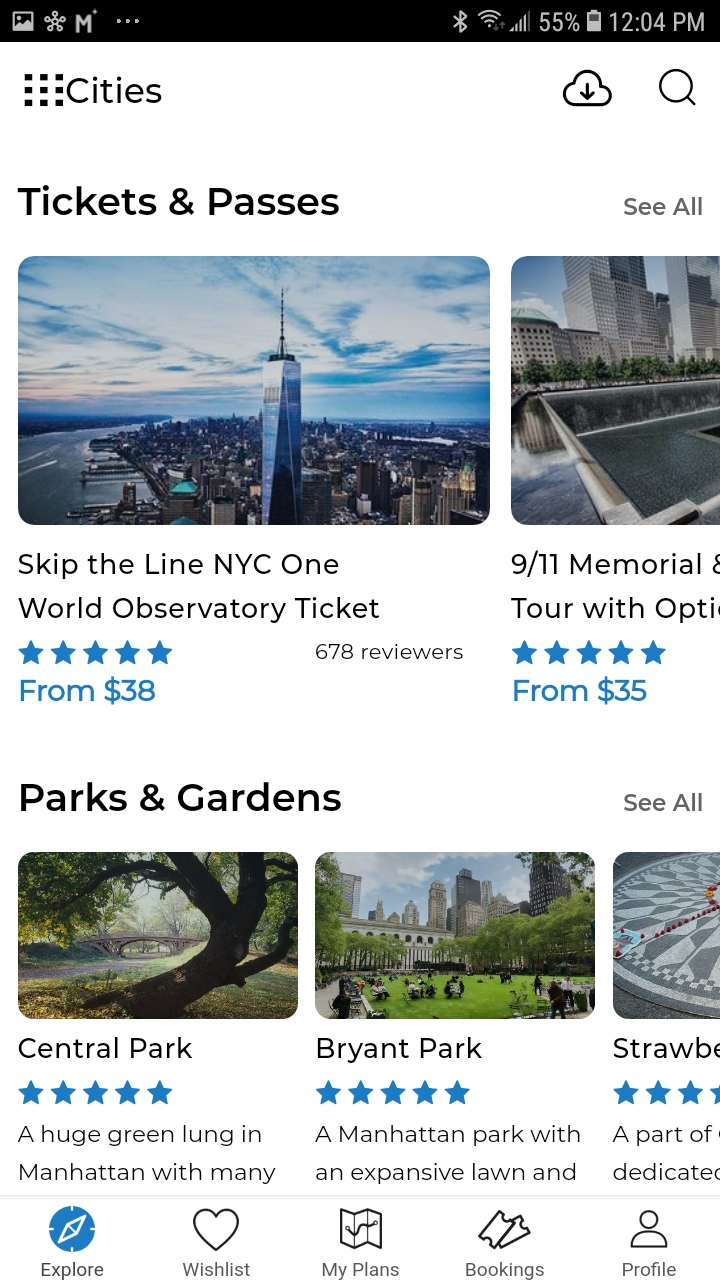Icon: (316, 1079, 471, 1105), (19, 1079, 174, 1105), (512, 640, 667, 665), (19, 640, 173, 664), (613, 1079, 720, 1105), (49, 1205, 96, 1252), (478, 1210, 531, 1250), (193, 1208, 240, 1251), (562, 70, 613, 108), (340, 1207, 383, 1249), (630, 1210, 668, 1248), (658, 69, 696, 107), (24, 75, 64, 108)
Image: (18, 256, 491, 526), (511, 256, 720, 526), (315, 852, 595, 1020), (18, 852, 299, 1019), (612, 852, 720, 1019)
Text: (18, 552, 380, 624), (316, 1124, 581, 1185), (18, 1124, 277, 1185), (510, 550, 720, 624), (17, 185, 340, 217), (21, 782, 342, 812), (612, 1124, 720, 1181), (317, 1036, 483, 1064), (19, 1036, 193, 1059), (513, 676, 647, 705), (22, 676, 156, 705), (67, 77, 163, 105), (316, 643, 464, 660), (613, 1036, 720, 1059), (624, 197, 703, 216), (466, 1261, 544, 1280), (323, 1261, 400, 1280), (624, 793, 702, 811), (42, 1261, 104, 1280), (183, 1262, 252, 1277), (622, 1261, 676, 1277)
UpperTaskBar: (1, 1, 720, 43)
